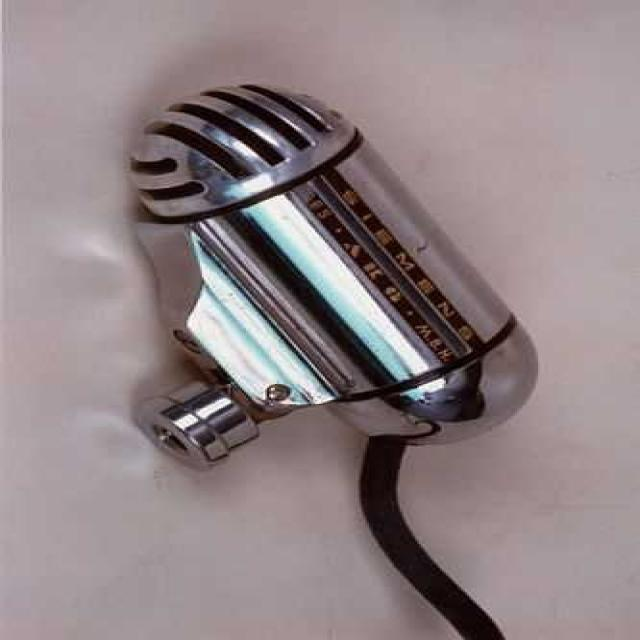microphone: (123, 83, 536, 449)
